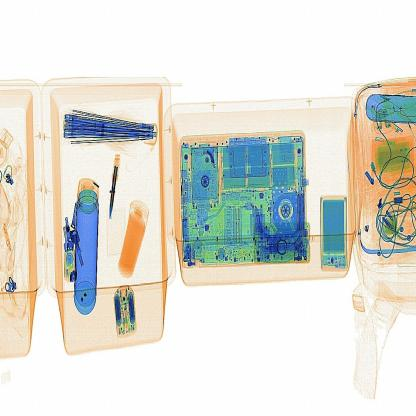gun: (103, 137, 128, 221)
